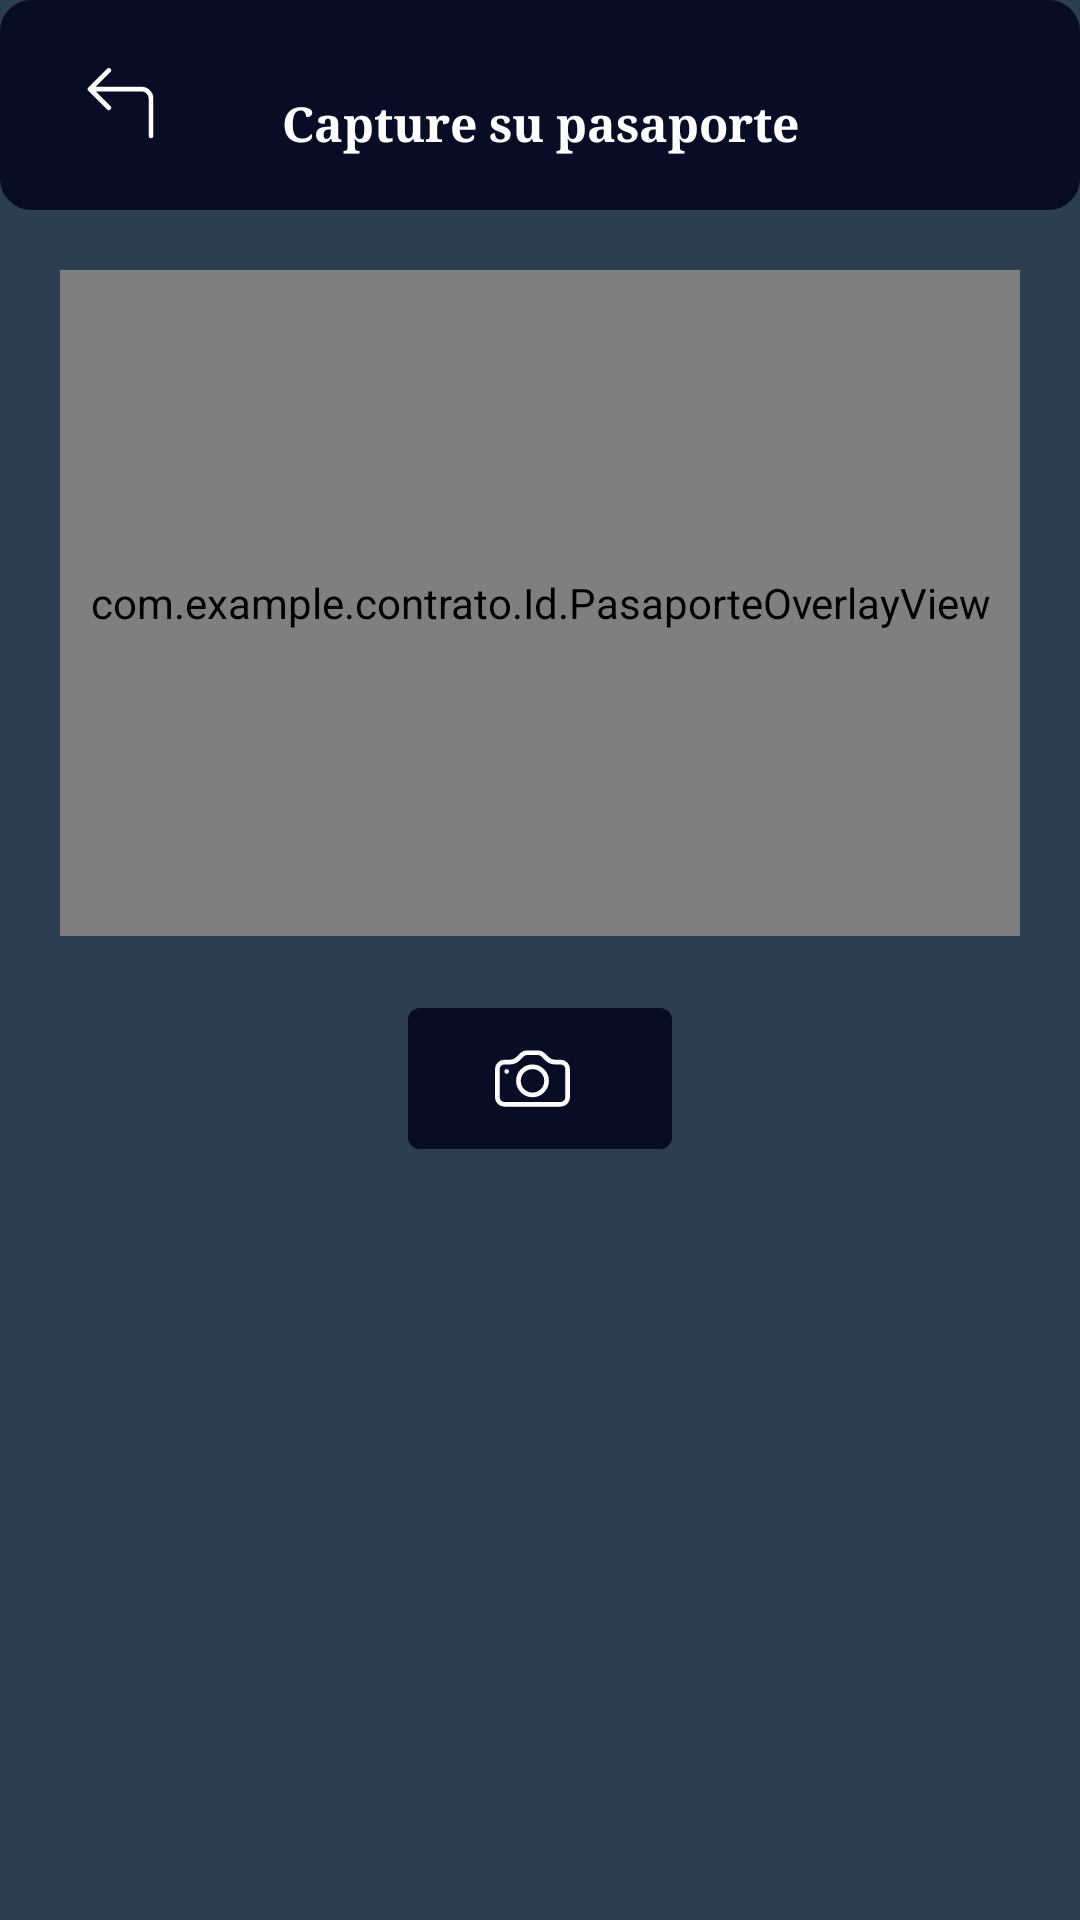

Screen size 1080×1920. Icon name, then its center in pixels as (x=x, y=y):
camara: (x=540, y=1078)
regresar firma: (x=120, y=103)
